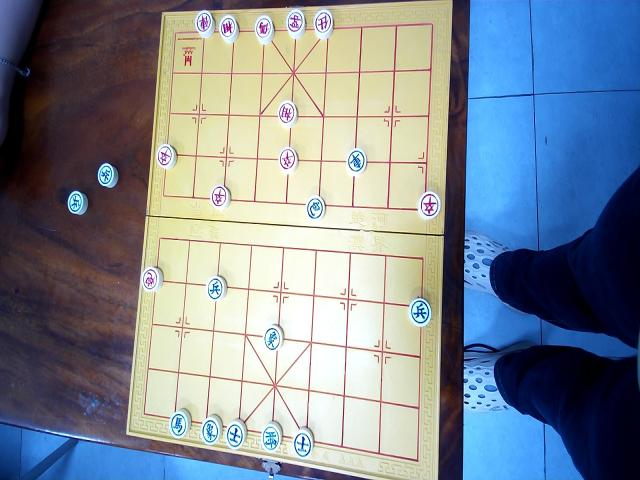piece: (416, 190, 440, 221), (292, 426, 314, 458), (200, 414, 222, 445), (408, 297, 431, 326), (313, 7, 333, 40), (262, 421, 282, 454), (226, 418, 246, 450), (254, 13, 274, 44), (170, 408, 190, 439), (286, 8, 306, 38), (218, 13, 238, 43), (154, 142, 176, 169), (277, 99, 297, 128), (346, 147, 366, 176), (141, 265, 162, 292), (210, 183, 230, 211), (195, 9, 214, 38), (278, 146, 298, 173), (206, 274, 226, 301), (262, 324, 282, 351), (306, 194, 324, 221)
